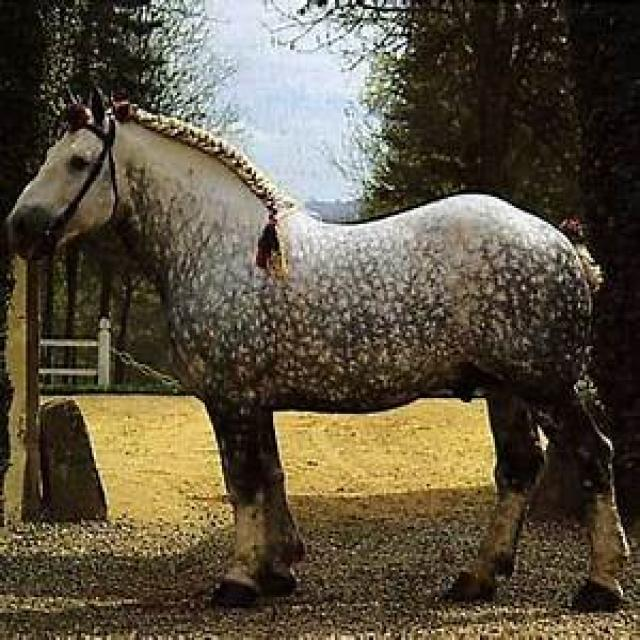horse: (9, 100, 629, 615)
